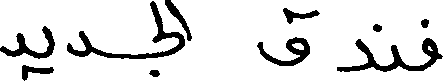ا: (163, 0, 193, 41), (146, 0, 160, 41)
ج: (146, 34, 191, 77)
د: (336, 36, 372, 72), (65, 28, 88, 57), (0, 30, 25, 56)
ف: (420, 17, 441, 71)
ق: (255, 5, 308, 65)
ن: (373, 22, 402, 71)
ي: (21, 23, 55, 80)
